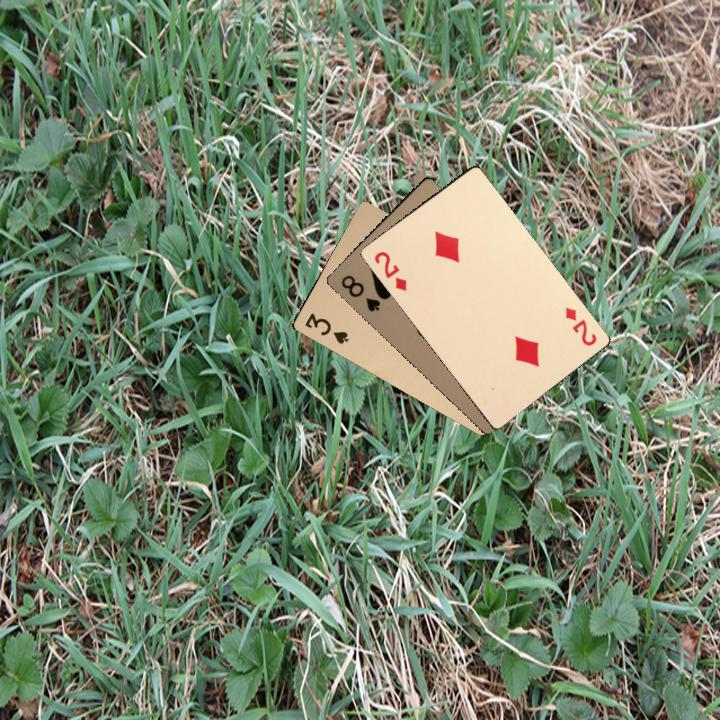2d: (370, 247, 409, 293), (561, 303, 600, 349)
3s: (301, 309, 351, 347)
8s: (337, 271, 383, 314)
